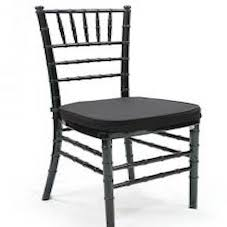chair: (20, 0, 203, 223)
